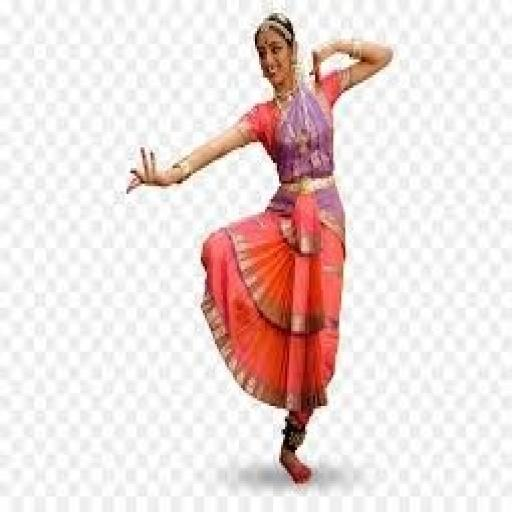dancing: (122, 8, 396, 486)
